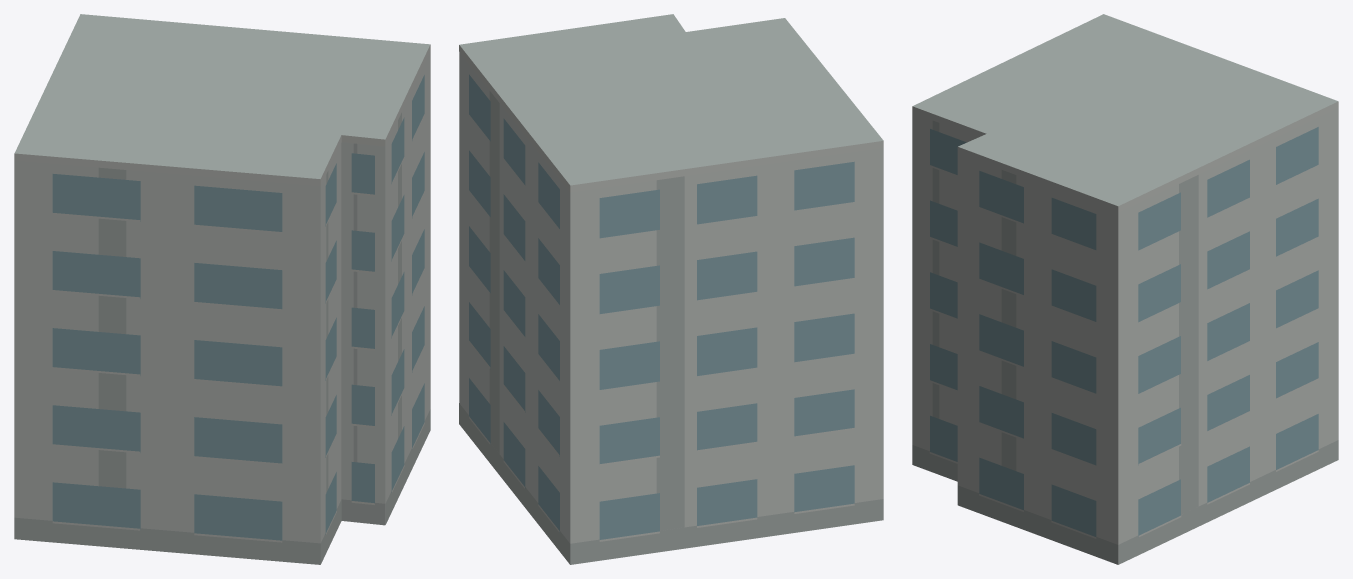
The model's file is survey-upis-32964196.glb.
The picture shows the model from 3 angles, left to right: view 1: azimuth 30°, elevation 25°; view 2: azimuth 150°, elevation 25°; view 3: azimuth 270°, elevation 25°; orthographic projection. The views are drawn at different scales.
Parts seen in each view (by area): view 1: survey-upis-32964196.tmp; view 2: survey-upis-32964196.tmp; view 3: survey-upis-32964196.tmp.
Boxes of the visible parts, box(x1,y1,x2,y2) form: survey-upis-32964196.tmp: box(14, 14, 430, 564); survey-upis-32964196.tmp: box(459, 14, 883, 564); survey-upis-32964196.tmp: box(912, 14, 1338, 564).
Bounding box in the file's own units: 15.07 × 13.1 × 14.12.
